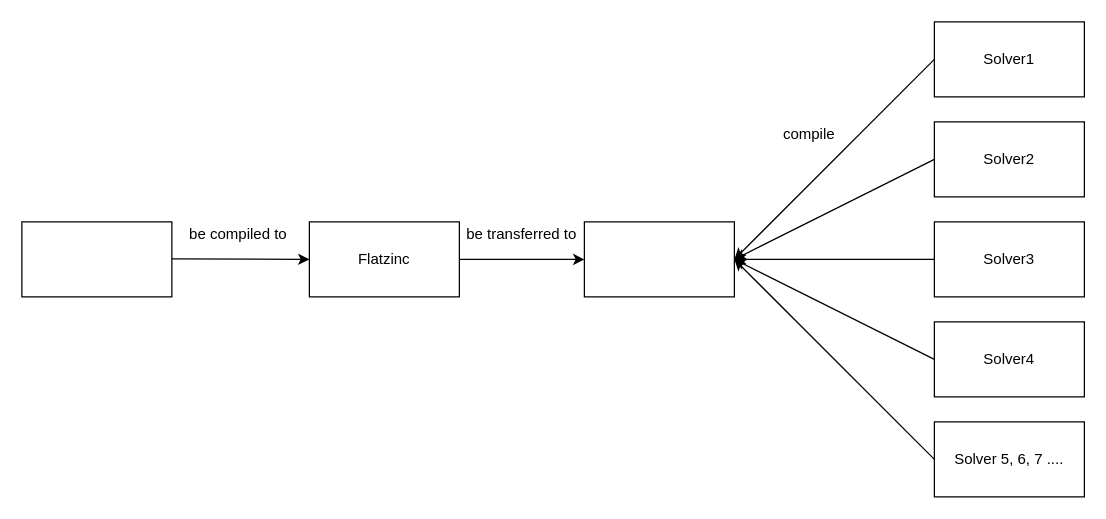
The diagram is 1106 pixels wide and 519 high, and some of its shapes have lost their labels. The box of each missing label's shape, as (x1, y1, x2, y2) in pixels:
interface: (583, 221, 734, 297)
Minizinc: (21, 221, 172, 297)
